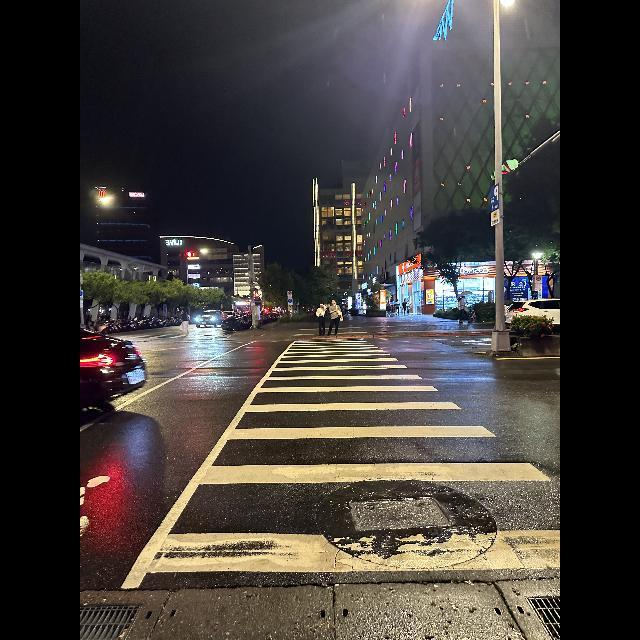sidewalk: (126, 336, 558, 590)
